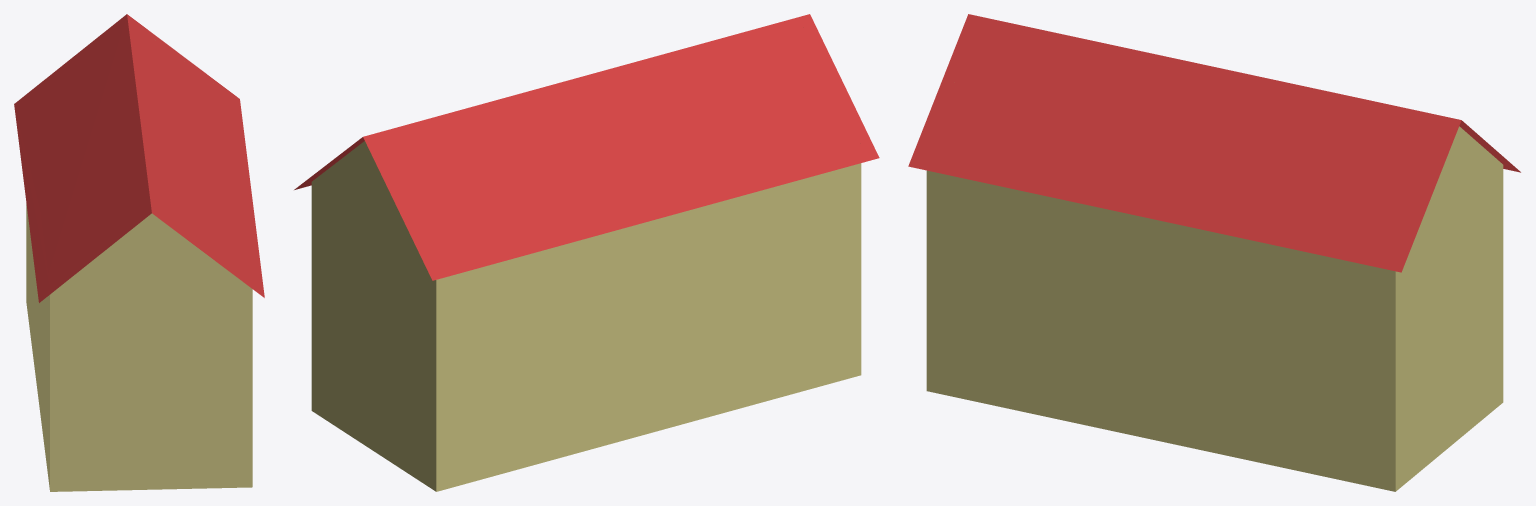
The picture shows the model from 3 angles, left to right: view 1: azimuth 30°, elevation 25°; view 2: azimuth 150°, elevation 25°; view 3: azimuth 270°, elevation 25°; orthographic projection. The views are drawn at different scales.
Visible parts, largest first — view 1: group_5, group_3, group_4; view 2: group_5, group_3, group_4; view 3: group_5, group_3, group_4.
Part boxes in pixels (bbox=[...]): group_5: bbox=[26, 203, 252, 491]; group_3: bbox=[14, 14, 252, 288]; group_4: bbox=[14, 14, 264, 302]; group_5: bbox=[311, 141, 861, 491]; group_3: bbox=[294, 17, 860, 280]; group_4: bbox=[436, 14, 879, 279]; group_5: bbox=[926, 126, 1503, 491]; group_3: bbox=[927, 14, 1514, 253]; group_4: bbox=[908, 14, 1520, 272].
Bounding box in the file's own units: 26.62 × 33.51 × 19.88.
